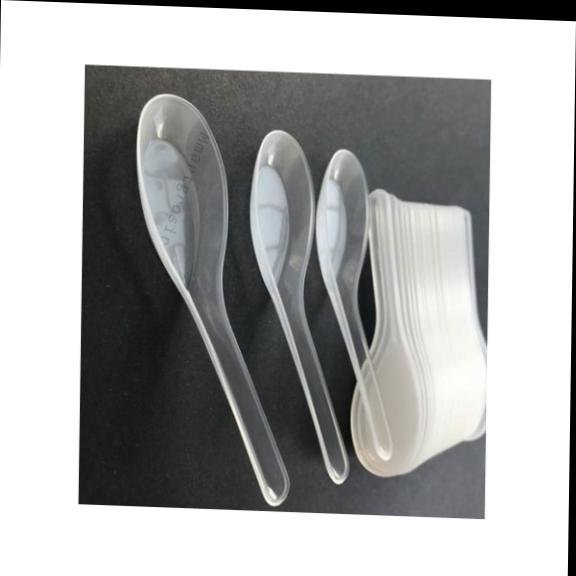Plastik: (136, 95, 288, 505), (249, 131, 347, 483), (315, 150, 391, 460)
